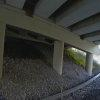Bridge: (2, 2, 97, 66)
